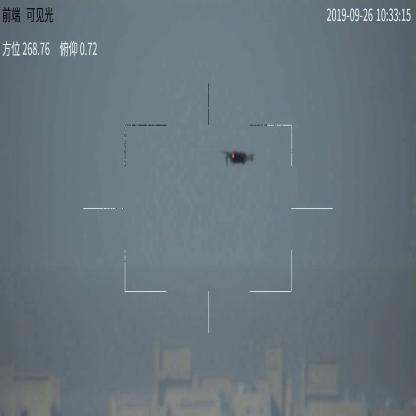uav: (219, 149, 257, 168)
